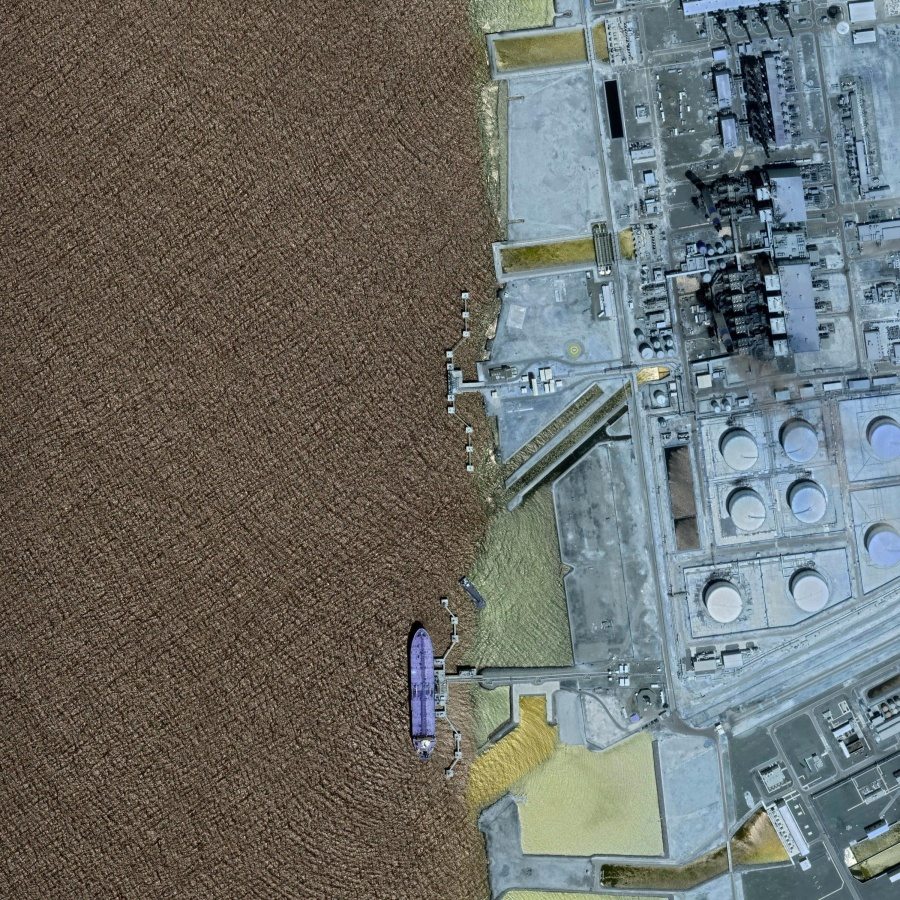PowerPlant: (632, 42, 854, 358)
